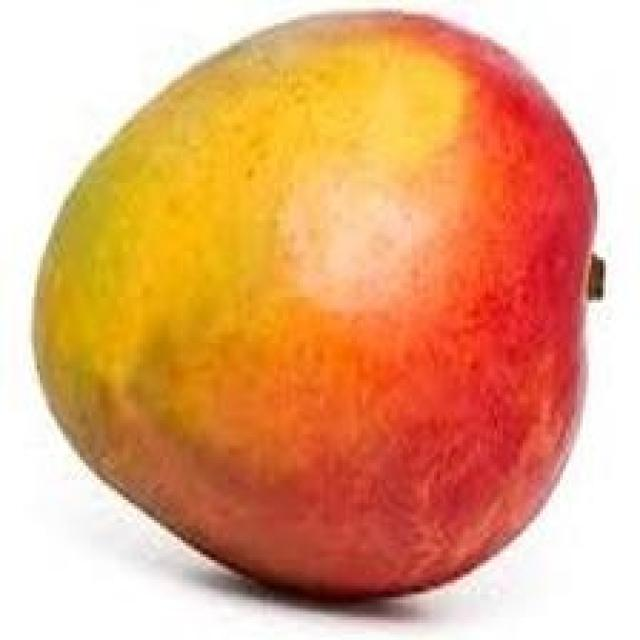Good_Mango: (26, 11, 597, 606)
